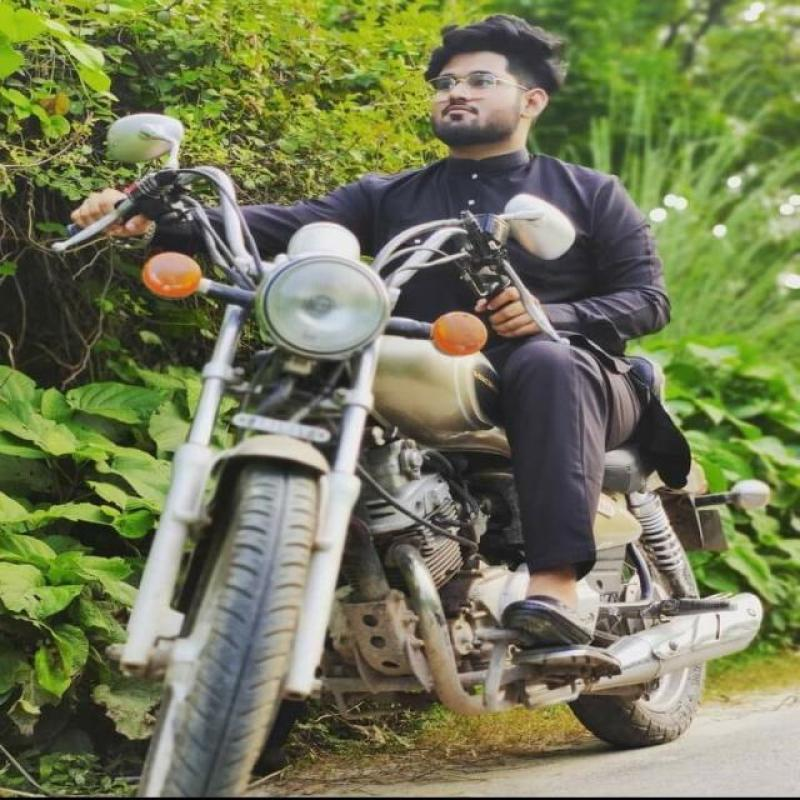nohelmet: (397, 22, 591, 172)
